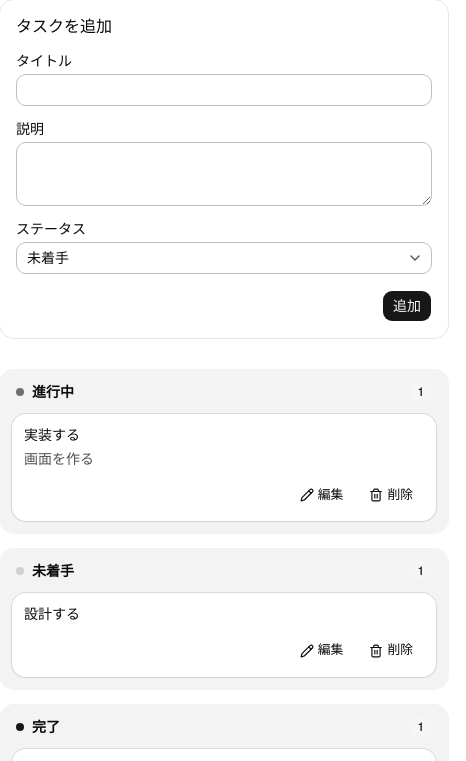
Test: 追加 › タイトルを入力して追加すると、再読み込みなしで未着手の列にすぐ表示される
In the field labelled "タイトル": (224, 90) [16,74,432,106], type "調査する"
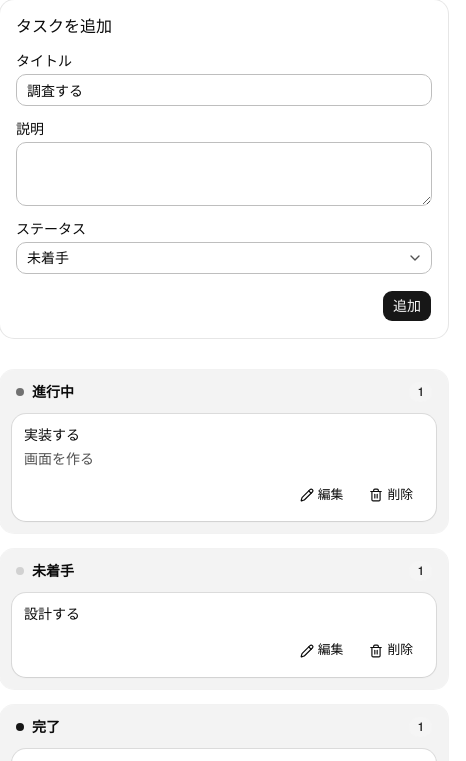
Click the button "追加": click(407, 306) [382,290,432,322]
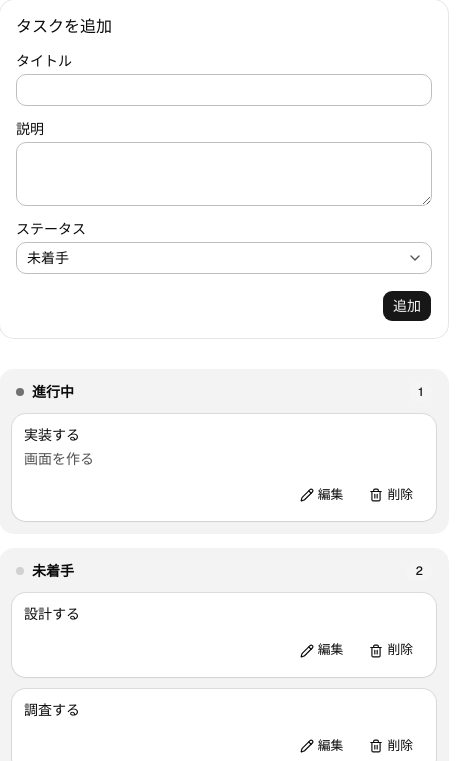
Now the heading "調査する" is shown, box [24,700,80,718]
Now the field labelled "タイトル" is empty, box [16,74,432,106]
